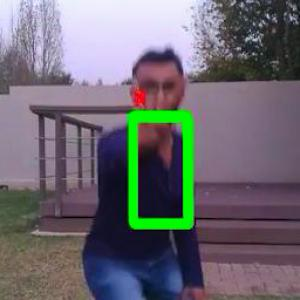takeoff-hand: (122, 68, 190, 143)
